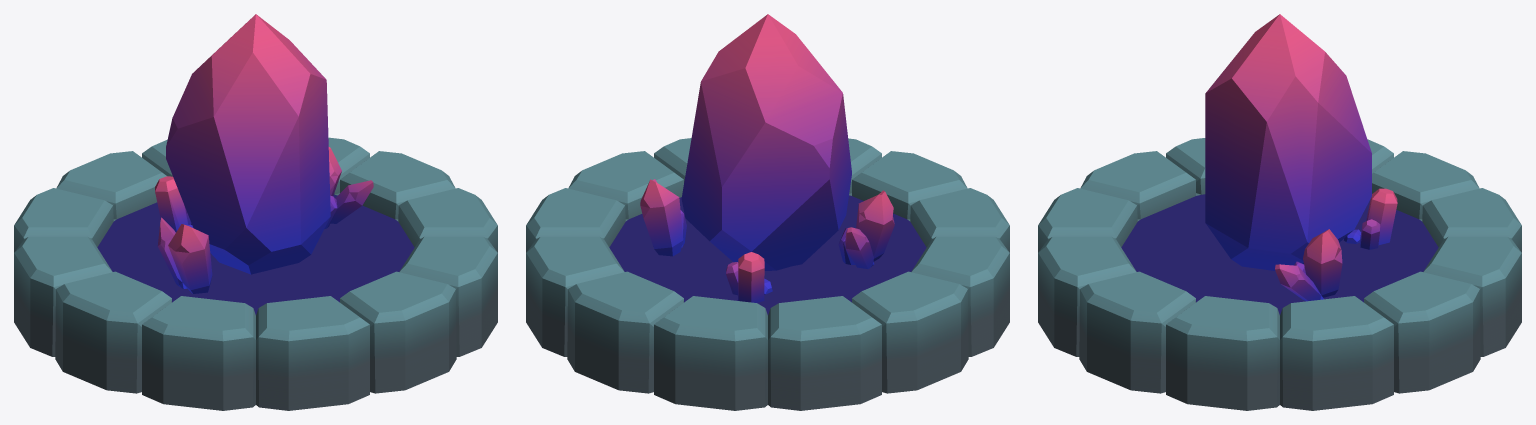
Rendered from Crystal_with_stand_03.fbx.
The picture shows the model from 3 angles, left to right: view 1: azimuth 30°, elevation 25°; view 2: azimuth 150°, elevation 25°; view 3: azimuth 270°, elevation 25°; orthographic projection.
Parts seen in each view (by area): view 1: Crystal_with_stand.002, Cylinder.003, Crystal_02.014, Crystal_02.013, Crystal_01.011; view 2: Crystal_with_stand.002, Cylinder.003, Crystal_02.014, Crystal_02.013, Crystal_01.011; view 3: Crystal_with_stand.002, Cylinder.003, Crystal_02.013, Crystal_01.011.
Boxes of the visible parts, x1=… form: Crystal_with_stand.002: x1=14, y1=137, x2=497, y2=410; Cylinder.003: x1=166, y1=14, x2=330, y2=274; Crystal_02.014: x1=157, y1=217, x2=212, y2=293; Crystal_02.013: x1=324, y1=147, x2=373, y2=228; Crystal_01.011: x1=155, y1=176, x2=193, y2=232; Crystal_with_stand.002: x1=526, y1=138, x2=1009, y2=410; Cylinder.003: x1=681, y1=14, x2=851, y2=270; Crystal_02.014: x1=838, y1=190, x2=894, y2=268; Crystal_02.013: x1=640, y1=179, x2=686, y2=256; Crystal_01.011: x1=726, y1=252, x2=772, y2=302; Crystal_with_stand.002: x1=1038, y1=138, x2=1521, y2=410; Cylinder.003: x1=1205, y1=14, x2=1371, y2=270; Crystal_02.013: x1=1275, y1=229, x2=1342, y2=301; Crystal_01.011: x1=1344, y1=188, x2=1397, y2=249.
Bounding box in the file's own units: 108 × 72.56 × 108.
